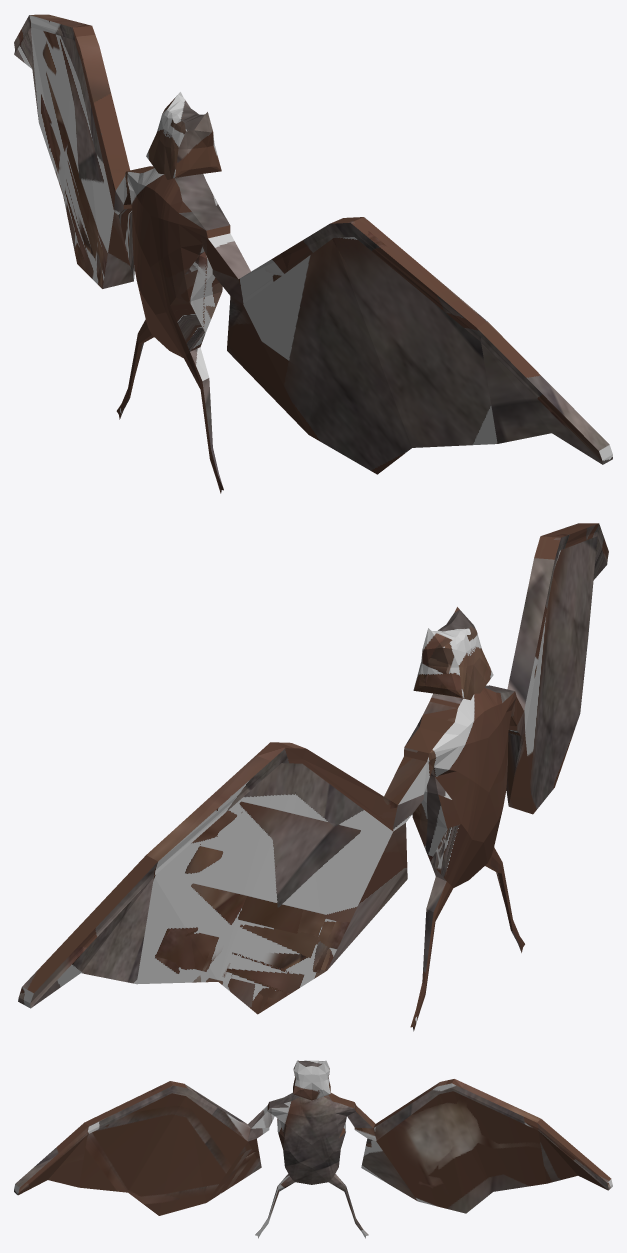
The model's file is Enemigo115.obj.
3 renders of one model, top to bottom at view 1: azimuth 30°, elevation 25°; view 2: azimuth 150°, elevation 25°; view 3: azimuth 270°, elevation 25°, orthographic. The views are drawn at different scales.
Visible parts, largest first — view 1: Plano; view 2: Plano; view 3: Plano.
Boxes of the visible parts, box(x1,y1,x2,y2) form: Plano: box(14, 14, 612, 493); Plano: box(18, 523, 608, 1031); Plano: box(14, 1060, 612, 1238).
Size of the model in its own units: 0.4194 by 0.7578 by 2.23.
1 material, 1 textured.
